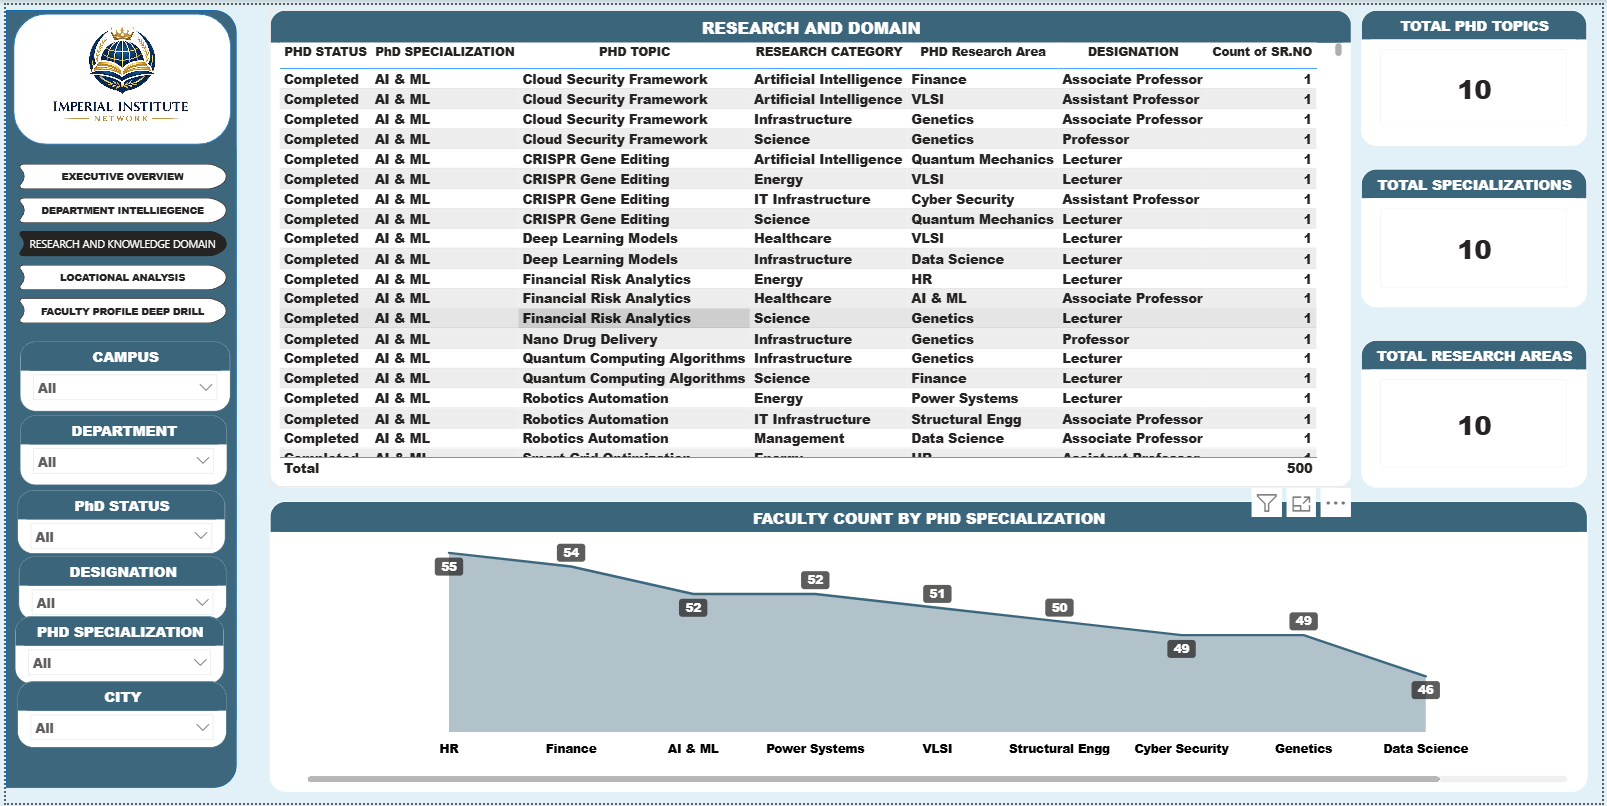

This screenshot's page, from the dashboard's own definition file:
{"tool":"powerbi","page":{"name":"RESEARCH AND KNOWLEDGE DOMAIN","canvas":[2000,1050],"ordinal":2},"visuals":[{"type":"shape","box":[0,6.7,289.1,974.1],"z":0,"group":"g1"},{"type":"slicer","title":"CAMPUS","fields":{"Values":["PhD Faculty Data.CAMPUS"]},"box":[16.4,420.8,263.6,88],"z":0,"group":"g2"},{"type":"areaChart","title":"FACULTY COUNT BY PHD SPECIALIZATION","fields":{"Category":["PhD Faculty Data.PhD SPECIALIZATION"],"Y":["Count(PhD Faculty Data.SR.NO)"]},"box":[330.4,621.9,1650.2,364],"z":0},{"type":"tableEx","title":"RESEARCH AND DOMAIN","fields":{"Values":["PhD Faculty Data.PHD STATUS","PhD Faculty Data.PhD SPECIALIZATION","PhD Faculty Data.PHD TOPIC","PhD Faculty Data.Research Area Category","PhD Faculty Data.PHD Research Area","PhD Faculty Data.DESIGNATION","Count(PhD Faculty Data.SR.NO)"]},"box":[330.4,7,1355,597.5],"z":1000},{"type":"slicer","title":"DEPARTMENT","fields":{"Values":["PhD Faculty Data.DEPARTMENT"]},"box":[16.6,513.4,260.1,88],"z":1000,"group":"g2"},{"type":"cardVisual","title":"TOTAL SPECIALIZATIONS","fields":{"Data":["Count(PhD Faculty Data.PhD SPECIALIZATION)"]},"box":[1697.7,205.6,283,174],"z":2000},{"type":"slicer","title":"PhD STATUS","fields":{"Values":["PhD Faculty Data.PHD STATUS"]},"box":[14.5,606.8,260.7,80.3],"z":2000,"group":"g2"},{"type":"cardVisual","title":"TOTAL PHD TOPICS","fields":{"Data":["Count(PhD Faculty Data.PHD TOPIC)"]},"box":[1697.7,7,283,170.5],"z":3000},{"type":"slicer","title":"DESIGNATION","fields":{"Values":["PhD Faculty Data.DESIGNATION"]},"box":[15.6,690.1,260.7,80.3],"z":3000,"group":"g2"},{"type":"cardVisual","title":"TOTAL RESEARCH AREAS","fields":{"Data":["Count(PhD Faculty Data.PHD Research Area)"]},"box":[1697.7,420,283,184.5],"z":4000},{"type":"slicer","title":"PHD SPECIALIZATION","fields":{"Values":["PhD Faculty Data.PhD SPECIALIZATION"]},"box":[10.6,765.5,262.7,84.4],"z":5000,"group":"g2"},{"type":"slicer","title":"CITY","fields":{"Values":["PhD Faculty Data.CITY"]},"box":[13.2,846.4,262.7,83.2],"z":6000,"group":"g2"},{"type":"group","id":"g1","title":"Group 4","box":[0,6.7,289.1,974.1],"z":10000},{"type":"pageNavigator","box":[11.7,198.8,270.7,202.2],"z":11000},{"type":"shape","box":[10,11.7,272.3,163.7],"z":12000},{"type":"group","id":"g2","title":"Group 2","box":[10.6,420.8,269.4,508.8],"z":13000},{"type":"image","box":[20.1,28.4,250.6,133.7],"z":14000},{"type":"textbox","box":[178.6,986,566.8,64],"z":14001}]}

Visuals, with their boxes on the page's 2000x1050 design canvas (x1, y1, x2, y2). These are canvas units, not pixel positions in the 1607x806 screenshot, which may show the page scaled, cropped or inside an application window:
shape: crop(0, 7, 289, 981)
"CAMPUS" slicer: crop(16, 421, 280, 509)
"FACULTY COUNT BY PHD SPECIALIZATION" areaChart: crop(330, 622, 1981, 986)
"RESEARCH AND DOMAIN" tableEx: crop(330, 7, 1685, 604)
"DEPARTMENT" slicer: crop(17, 513, 277, 601)
"TOTAL SPECIALIZATIONS" cardVisual: crop(1698, 206, 1981, 380)
"PhD STATUS" slicer: crop(14, 607, 275, 687)
"TOTAL PHD TOPICS" cardVisual: crop(1698, 7, 1981, 178)
"DESIGNATION" slicer: crop(16, 690, 276, 770)
"TOTAL RESEARCH AREAS" cardVisual: crop(1698, 420, 1981, 604)
"PHD SPECIALIZATION" slicer: crop(11, 766, 273, 850)
"CITY" slicer: crop(13, 846, 276, 930)
"Group 4" group: crop(0, 7, 289, 981)
pageNavigator: crop(12, 199, 282, 401)
shape: crop(10, 12, 282, 175)
"Group 2" group: crop(11, 421, 280, 930)
image: crop(20, 28, 271, 162)
textbox: crop(179, 986, 745, 1050)
